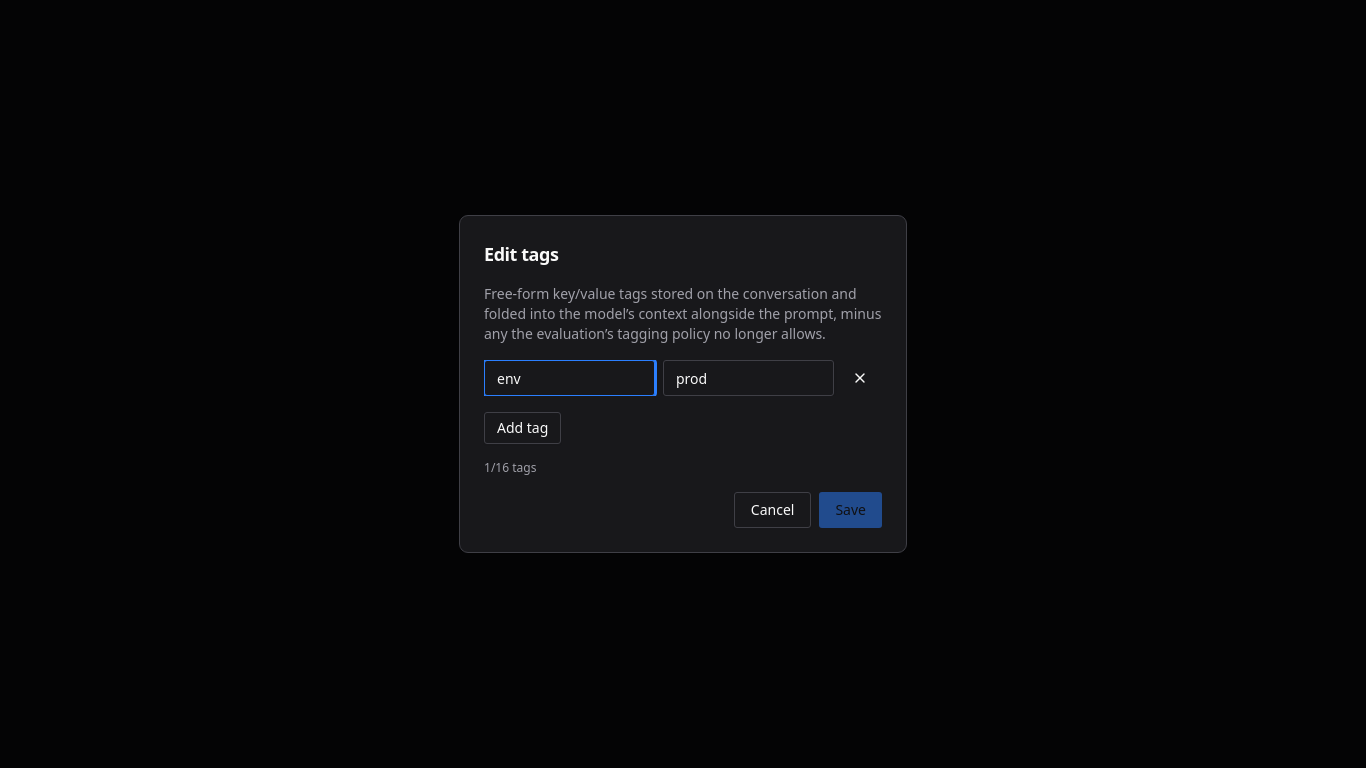
EditTagsDialog — what a failure says › keeps the curated copy for a permission failure rather than the raw detail
Replace the text in the field named "Tag 1 value" with "staging": {"x": 748, "y": 378} x1=663 y1=360 x2=834 y2=396
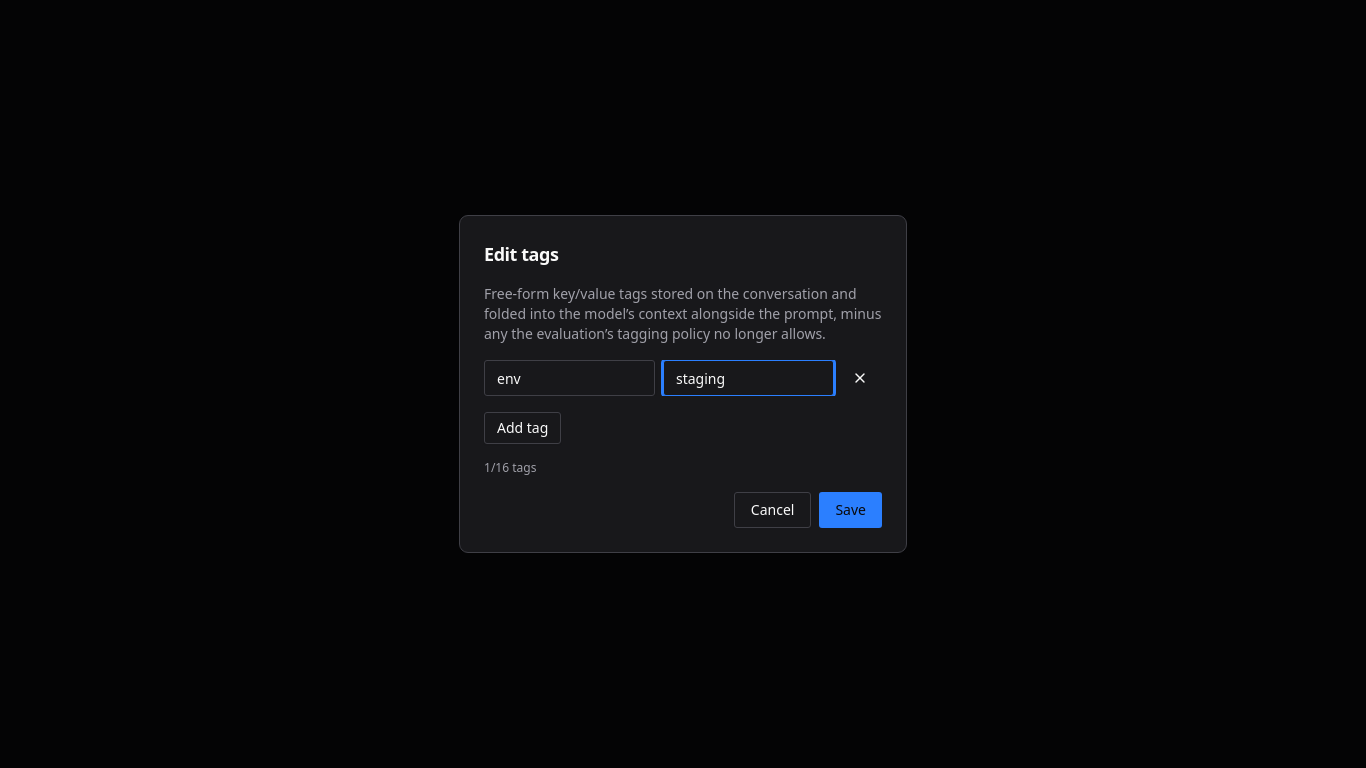
Click the button "Save": {"x": 851, "y": 510} x1=819 y1=492 x2=882 y2=528
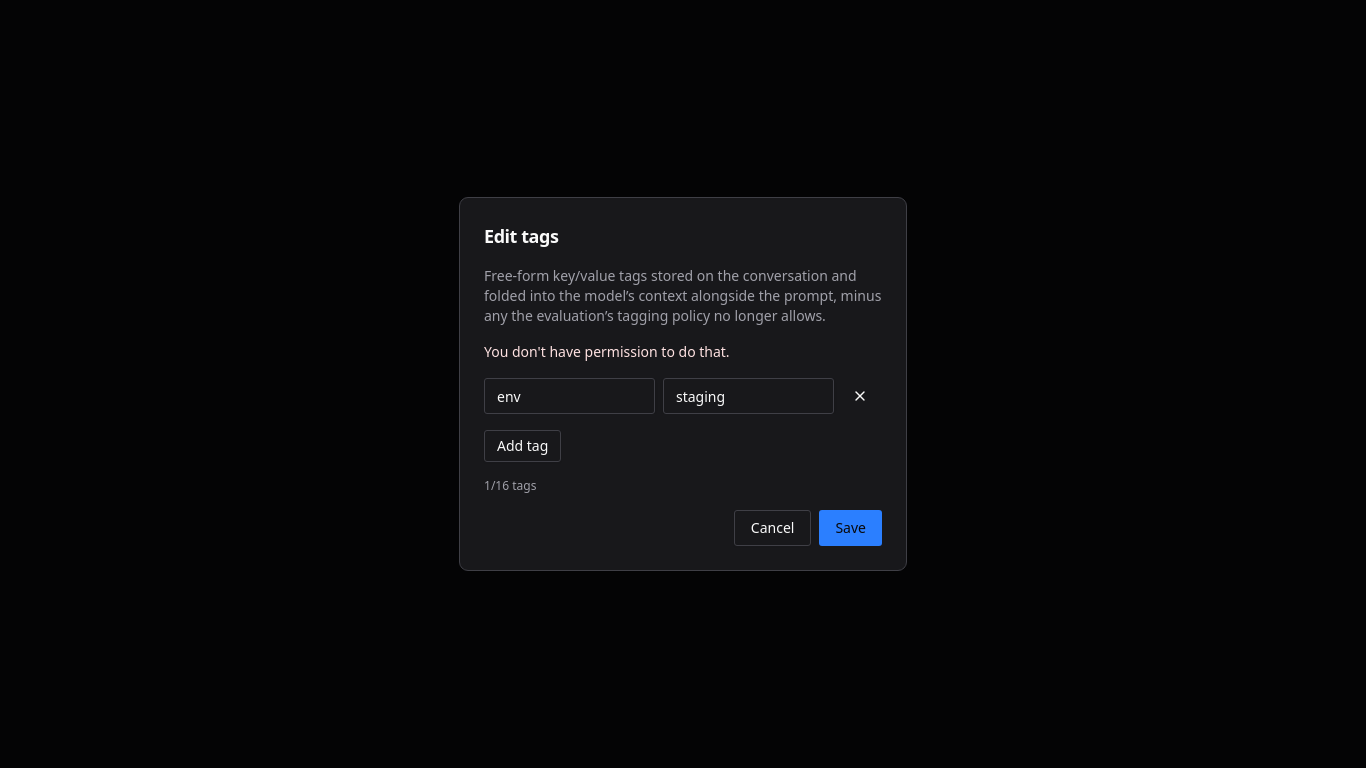
Check: the text "You don't have permission to do that." is shown, box x1=484 y1=342 x2=730 y2=361
